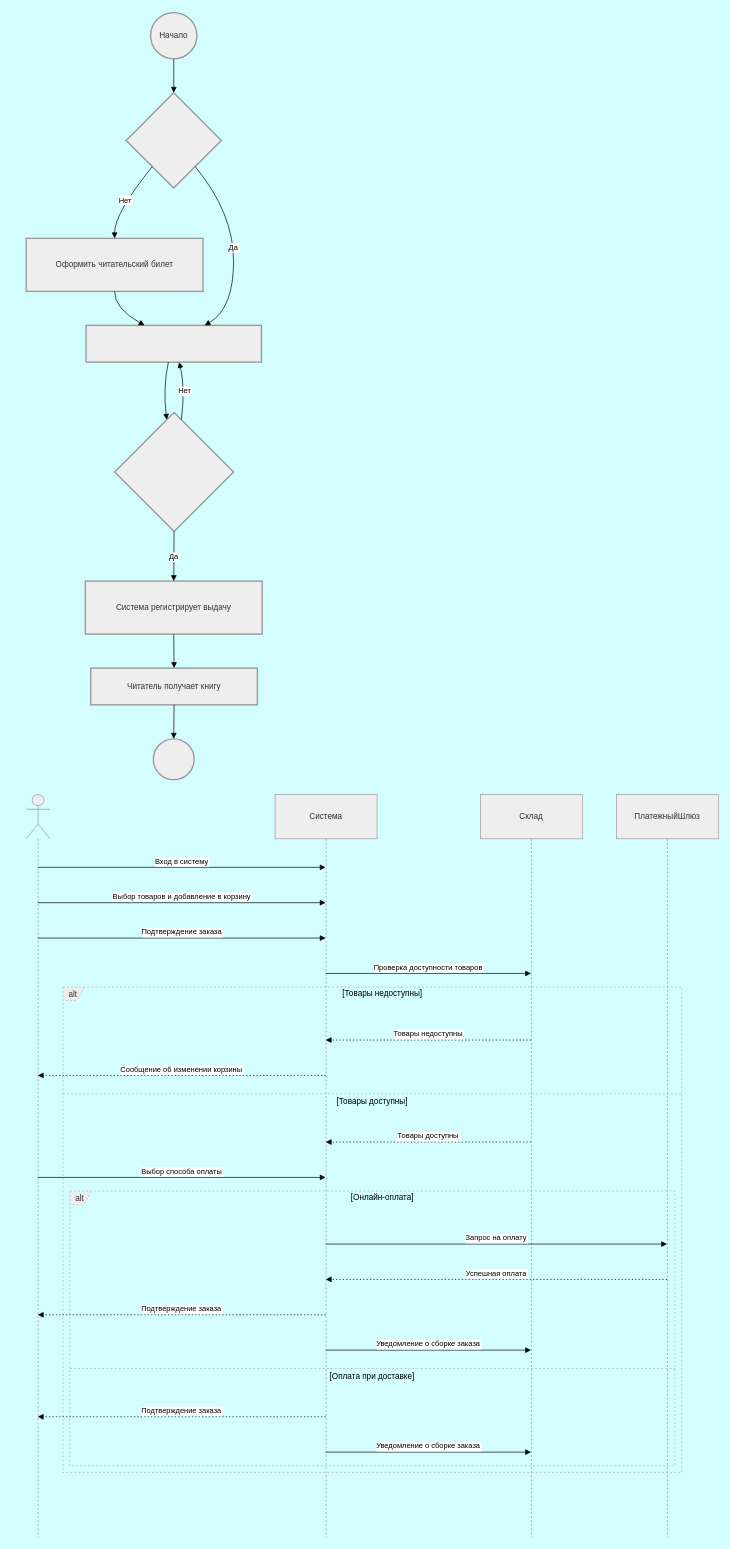
Image size: 730x1549. Some labels were removed from this diagram. Each missing label, with the box of its shape:
Выбрать книгу из каталога: (85, 324, 262, 362)
Есть билет?: (125, 92, 222, 188)
Книга доступна?: (114, 411, 234, 532)
Конец: (152, 738, 194, 780)
Пользователь: (26, 794, 50, 1537)
